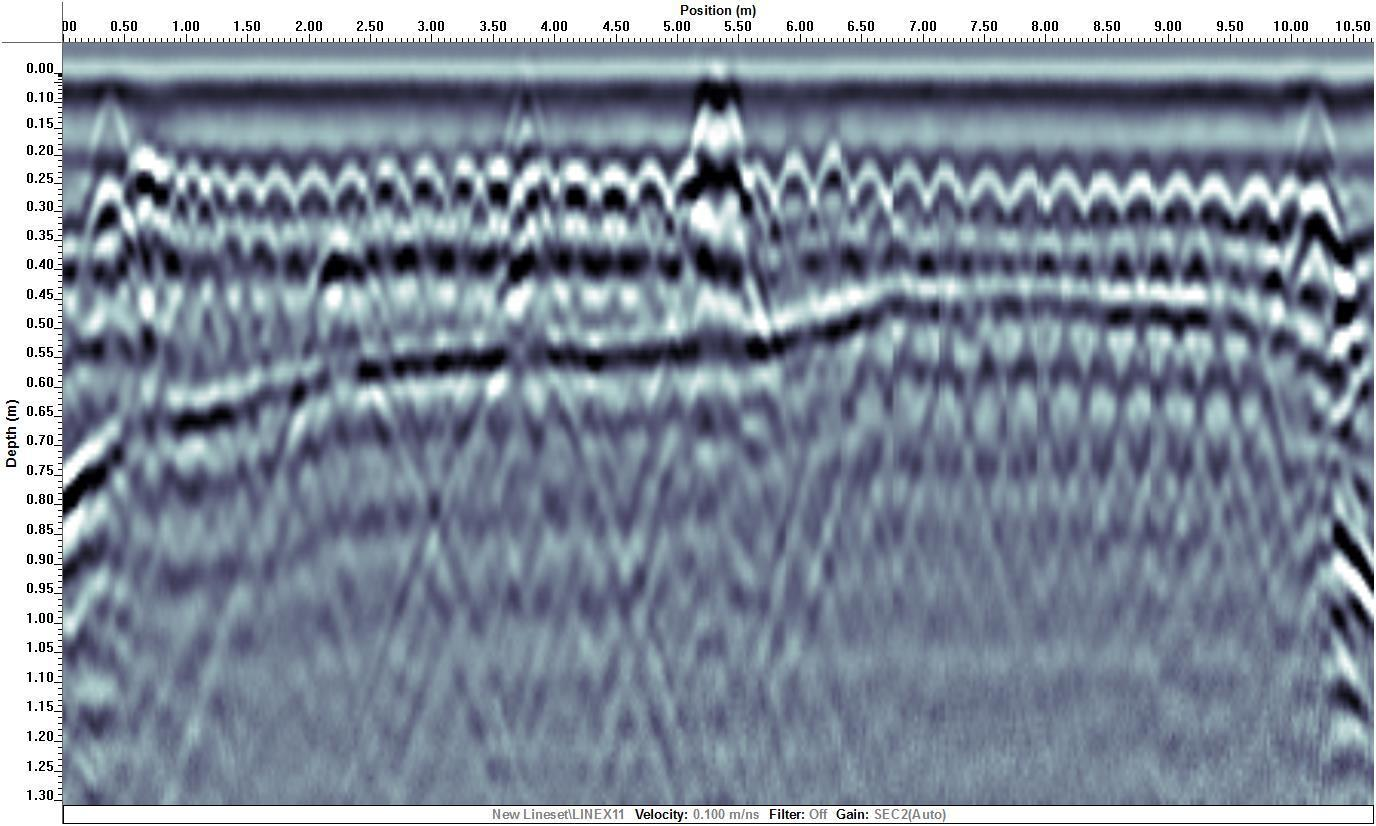hyperbola: (229, 154, 267, 274), (264, 152, 302, 272), (296, 151, 334, 271), (335, 149, 373, 269), (373, 147, 411, 267), (407, 145, 445, 265), (444, 143, 482, 263), (595, 149, 633, 269), (558, 153, 596, 273), (633, 149, 671, 269), (780, 140, 818, 260), (813, 139, 851, 259), (852, 146, 890, 266), (887, 146, 925, 266), (923, 154, 961, 274), (967, 154, 1005, 274), (1010, 156, 1048, 276), (1042, 156, 1080, 276), (1123, 159, 1161, 279), (1083, 156, 1121, 276), (1240, 159, 1278, 279), (1161, 157, 1199, 277), (1197, 161, 1235, 281)
